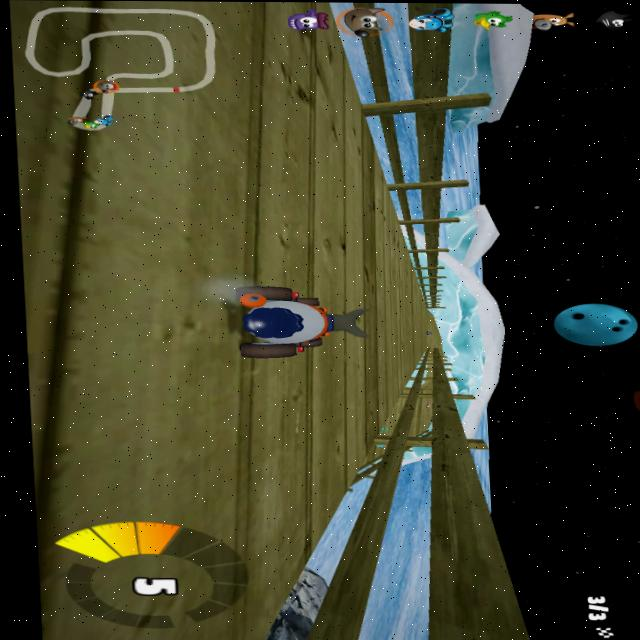player_kart: (231, 282, 377, 361)
track: (0, 0, 246, 640), (212, 2, 346, 283), (237, 364, 377, 481), (233, 481, 297, 628), (338, 163, 393, 283), (297, 482, 347, 548), (374, 325, 421, 387), (372, 280, 432, 324), (337, 102, 372, 166), (373, 388, 402, 426), (417, 318, 441, 351), (393, 245, 409, 283)
